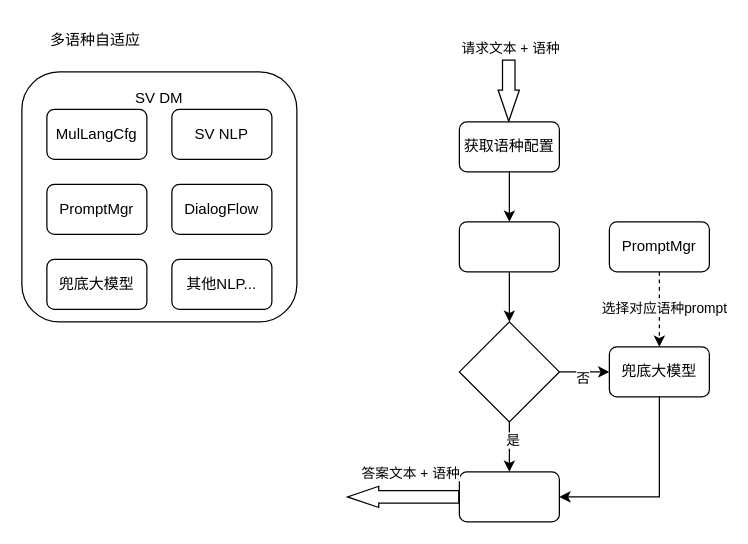
Some shapes in this 748 by 544 pixel diagram are drawn without their labels. The centre of each missing label's shape, as x and y in pixels:
"对应语种的NLU意图/QA" goes at (508,246).
"是否命中" goes at (508,371).
"生成回复" goes at (508,496).
